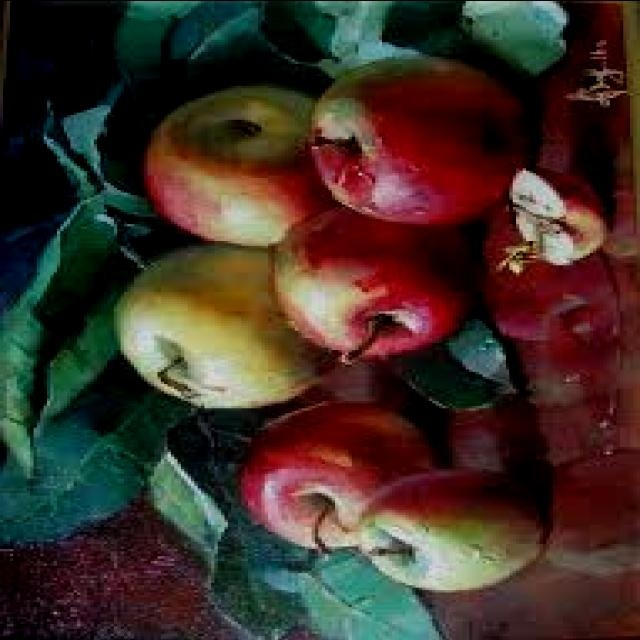agrume: (126, 223, 350, 419), (309, 25, 527, 223), (217, 402, 451, 574), (249, 206, 495, 366), (134, 80, 350, 252), (333, 461, 543, 611)
